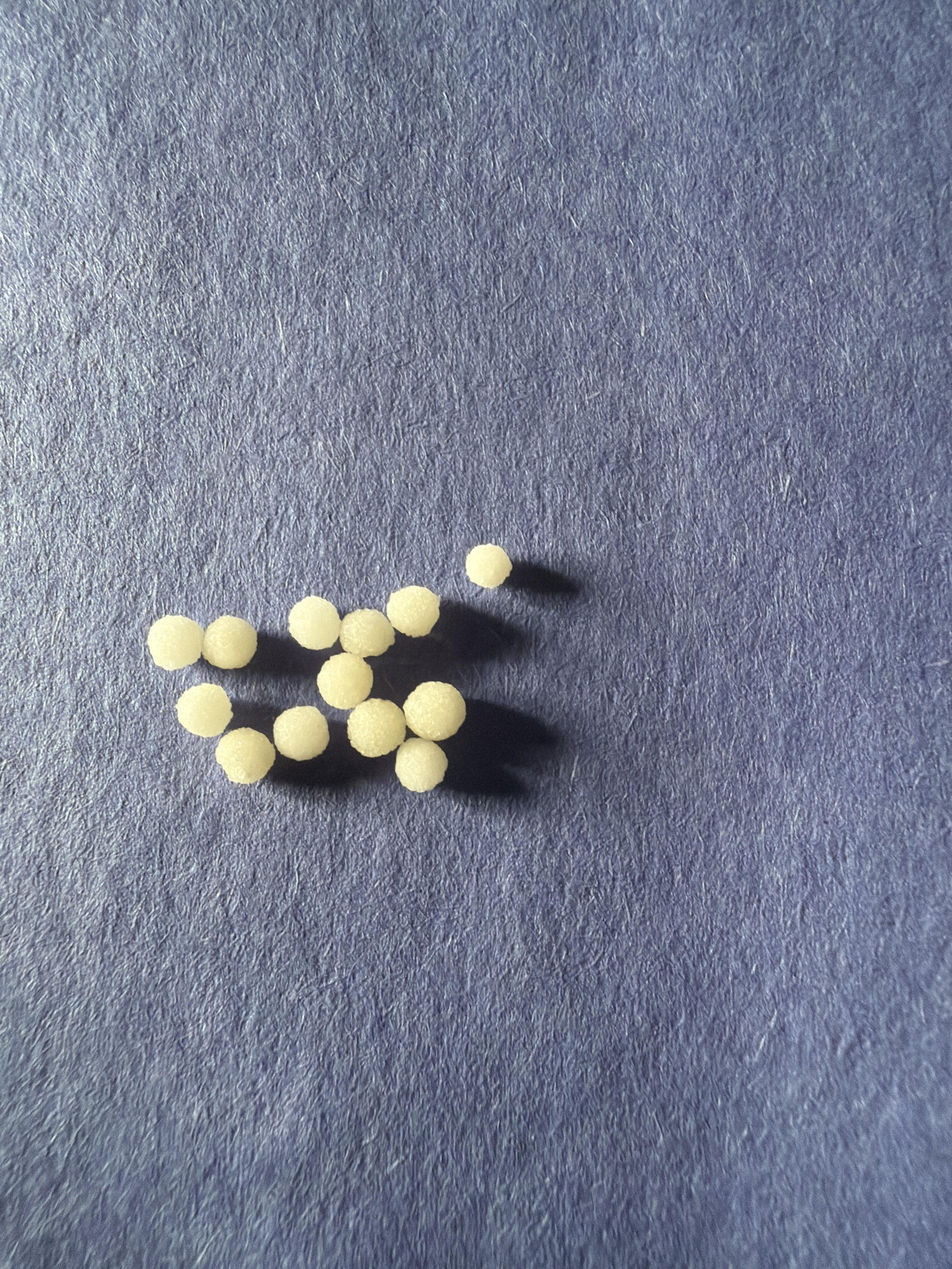pill: (403, 682, 466, 741), (348, 698, 405, 757), (215, 728, 275, 784), (316, 652, 373, 709), (147, 615, 204, 670), (273, 706, 329, 761), (176, 684, 232, 737), (202, 616, 257, 668), (395, 738, 447, 792), (289, 596, 340, 650), (386, 586, 439, 637), (339, 609, 394, 657), (465, 544, 512, 588)
